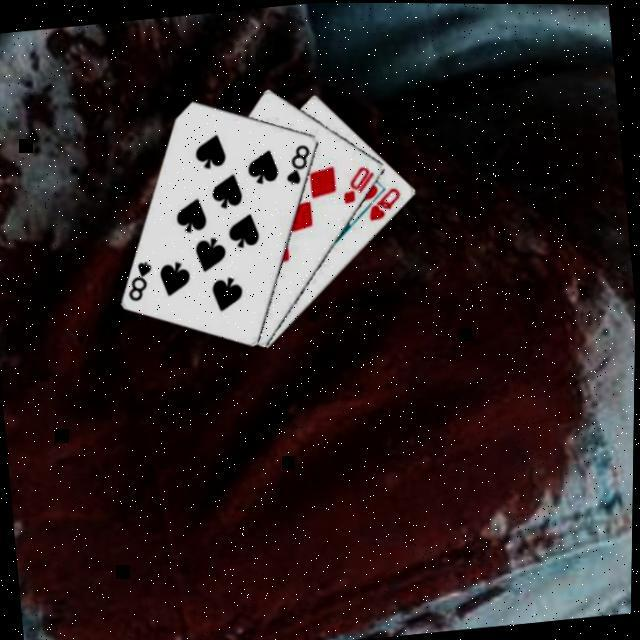10D: (336, 161, 379, 207)
8S: (279, 141, 315, 188), (121, 258, 157, 305)
QH: (362, 184, 404, 224)
